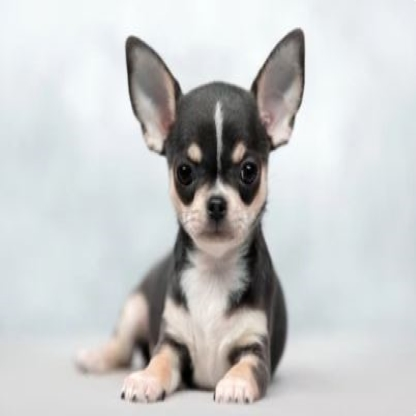chihuahua: (74, 25, 308, 403)
